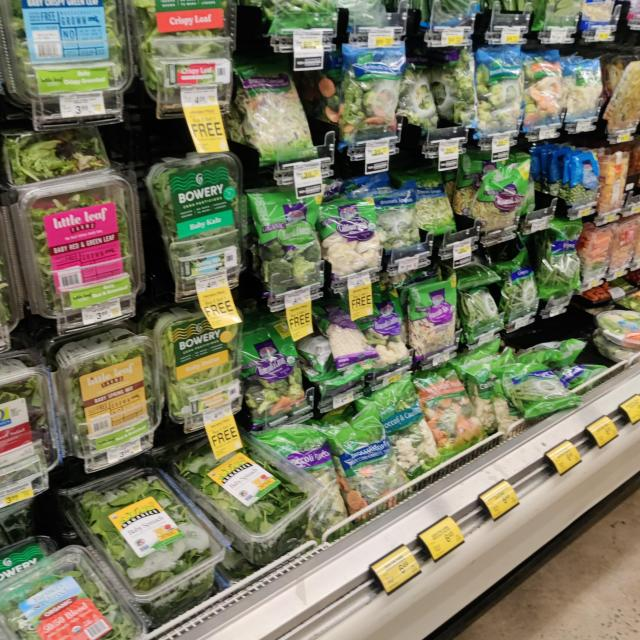Broccoli: (326, 397, 398, 517), (234, 318, 312, 426), (254, 193, 329, 300), (338, 47, 412, 152), (374, 179, 433, 267), (470, 54, 522, 142), (519, 50, 571, 135)
Brussel Sprouts: (473, 164, 542, 243)
Cauliflower: (370, 392, 449, 484), (322, 195, 378, 284), (358, 297, 414, 377)
Lettuce: (159, 306, 257, 435)
Salad: (12, 175, 149, 336), (134, 156, 263, 294), (33, 338, 171, 466), (1, 0, 135, 131), (128, 0, 243, 115), (236, 63, 326, 174)
Spinach: (61, 458, 231, 616), (169, 412, 330, 563)
